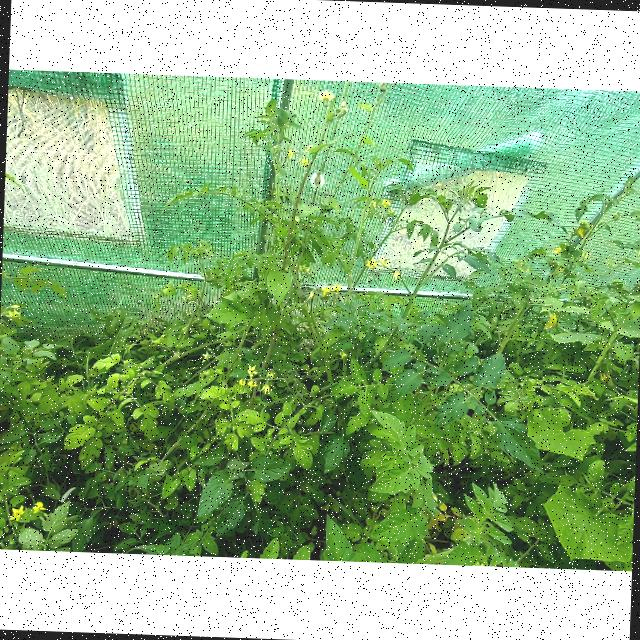Flowers: (568, 219, 592, 239), (3, 302, 23, 318), (316, 90, 333, 108), (10, 504, 26, 523), (544, 313, 560, 331), (513, 258, 531, 274), (30, 500, 46, 515), (550, 242, 566, 256), (362, 256, 378, 270), (202, 349, 217, 363), (246, 363, 260, 378), (259, 380, 272, 394), (335, 100, 348, 114), (247, 378, 258, 391), (266, 368, 276, 380), (376, 256, 388, 266), (319, 284, 329, 296), (554, 266, 568, 274), (391, 268, 400, 280), (338, 350, 348, 360), (182, 294, 193, 303), (238, 378, 248, 387), (331, 282, 341, 291), (299, 156, 308, 166), (580, 251, 591, 259), (378, 198, 389, 206), (286, 148, 294, 158), (304, 144, 312, 153), (386, 208, 396, 215), (369, 200, 377, 208), (272, 144, 280, 152)
